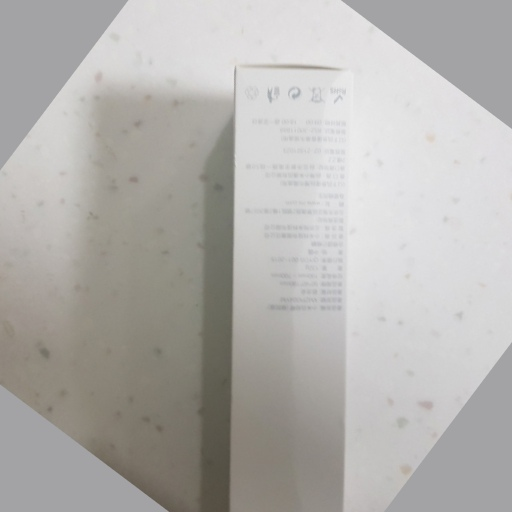Paper_0: (223, 57, 359, 512)
